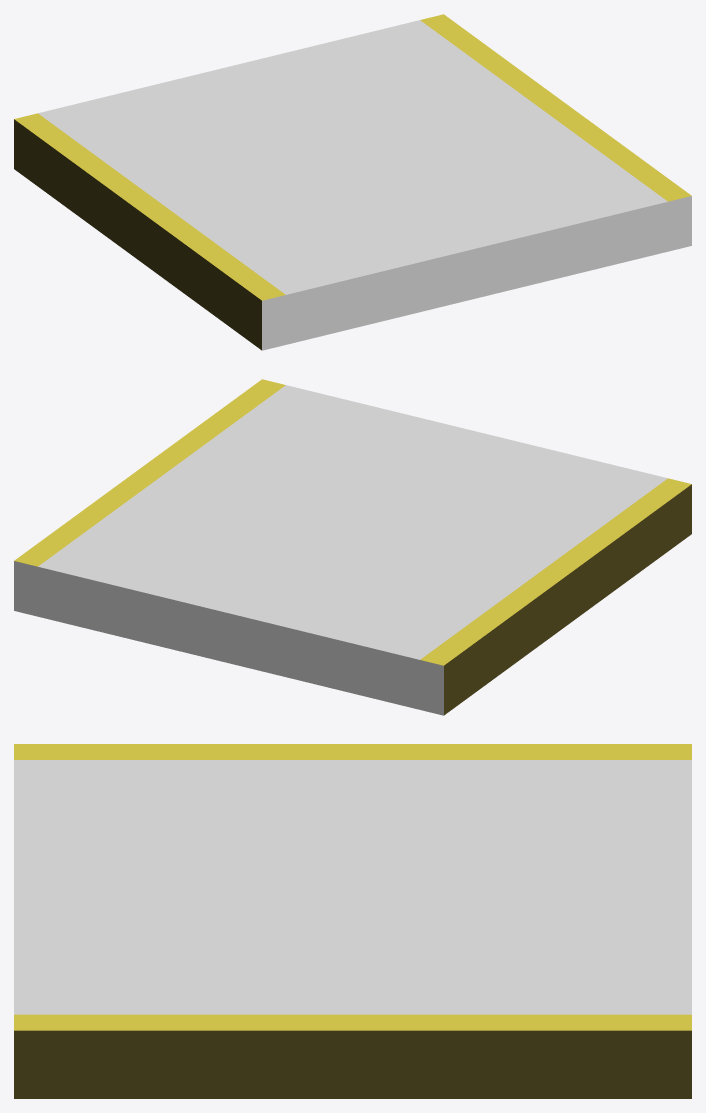
Rendered from Path2 (1).fbx.
The picture shows the model from 3 angles, top to bottom: view 1: azimuth 30°, elevation 25°; view 2: azimuth 150°, elevation 25°; view 3: azimuth 270°, elevation 25°; orthographic projection. The views are drawn at different scales.
Visible parts, largest first — view 1: Cube; view 2: Cube; view 3: Cube.
Part boxes in pixels (x1,y1,x2,y2): Cube: [14, 14, 691, 350]; Cube: [14, 379, 691, 715]; Cube: [14, 744, 691, 1098].
Bounding box in the file's own units: 9 × 1 × 9.
